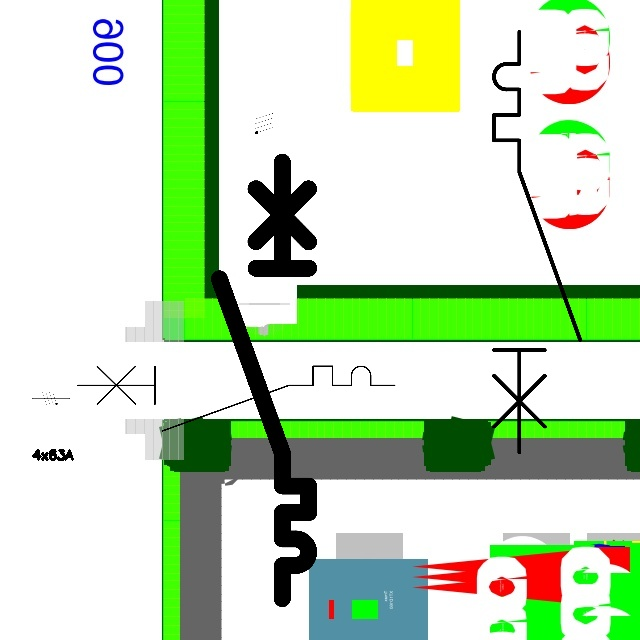interruptor_termomagnetico: (208, 150, 320, 609), (483, 21, 591, 463), (69, 358, 402, 439)
